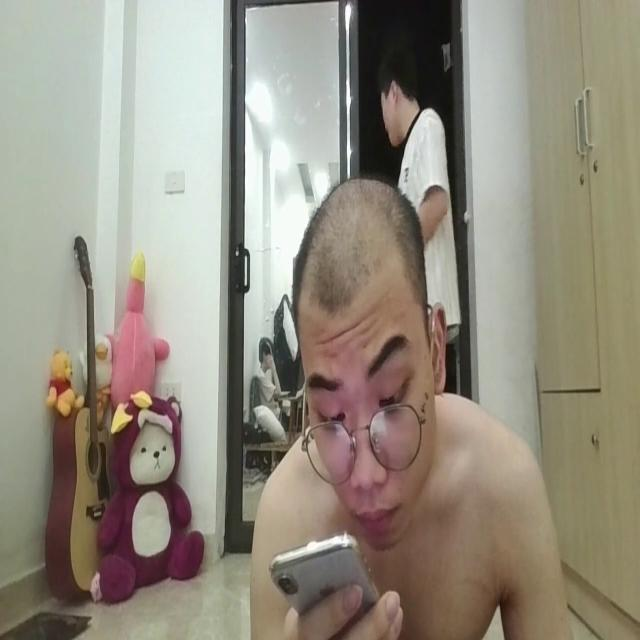extra_person: (367, 46, 469, 346)
student: (241, 174, 572, 640)
